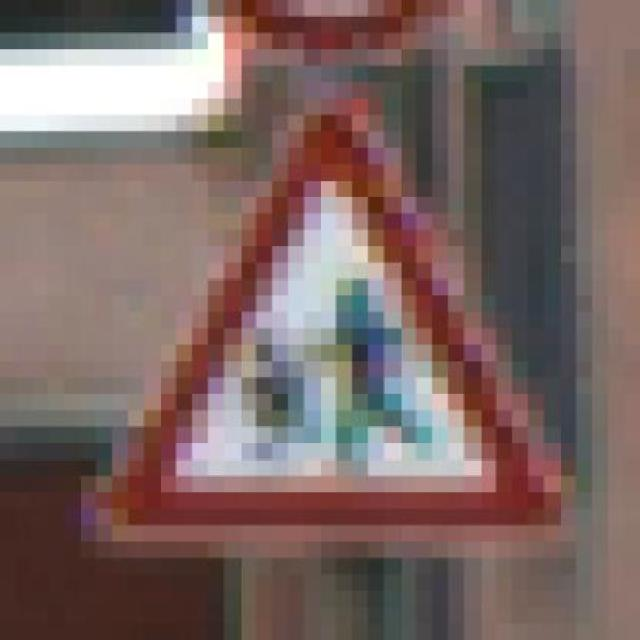Beware of children: (79, 81, 576, 558)
